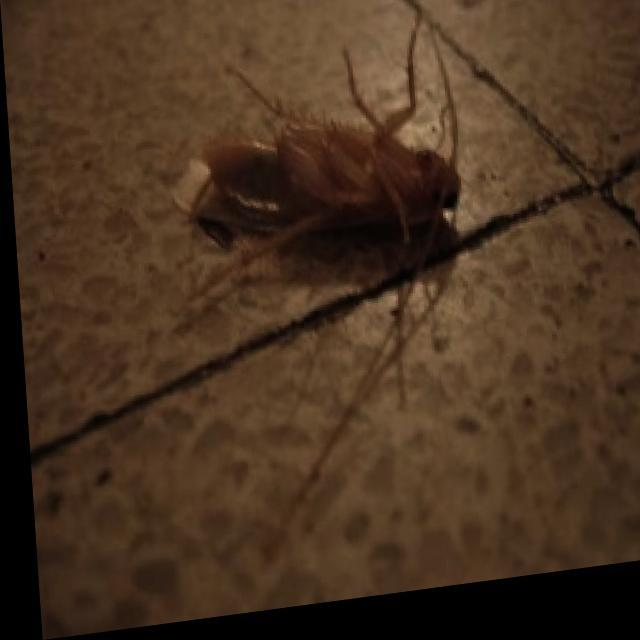cockroach: (184, 67, 486, 310)
